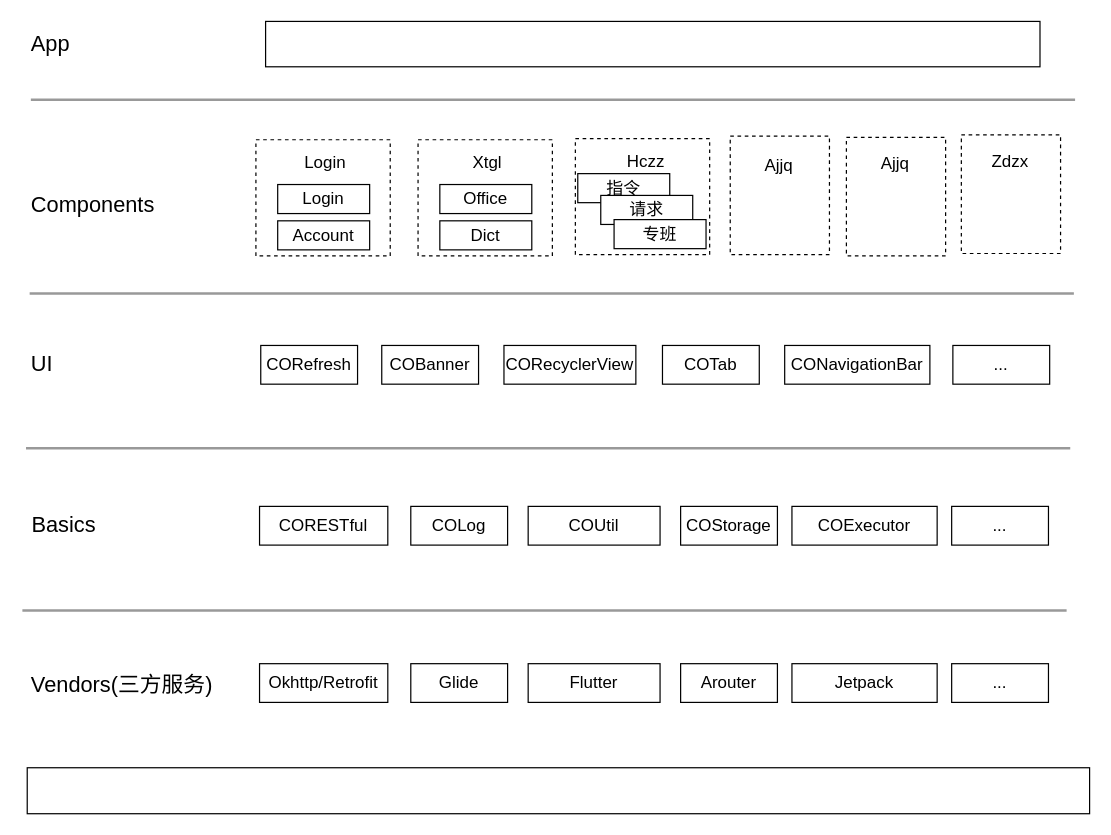
This 1111x835 diagram has some shape labels left out. Here are the shapes that lost their labels. From the top down, the centre of each, then its label:
pixel 652 43: Portal(门户)
pixel 558 790: Android Application Framework
